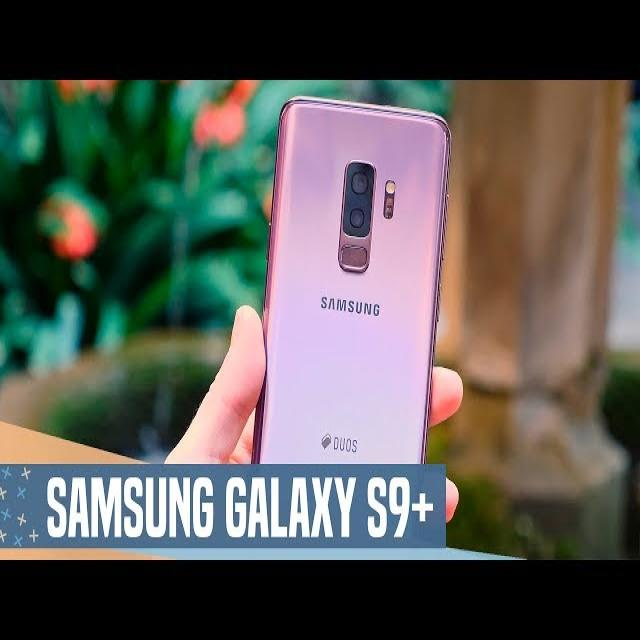mobile phone: (250, 93, 451, 466)
